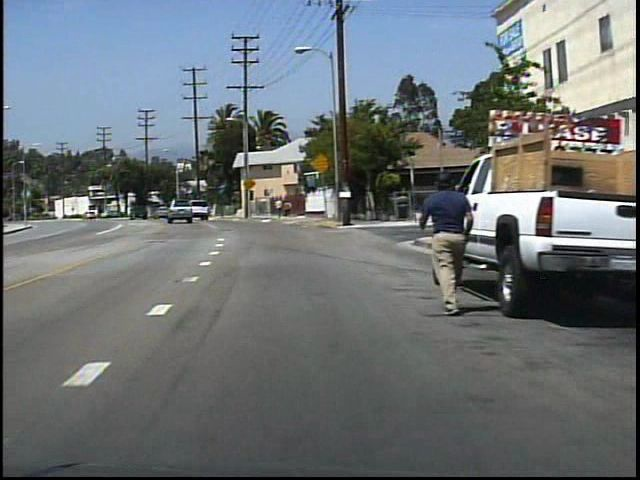person: (410, 167, 468, 314), (274, 195, 284, 220), (282, 198, 292, 219)
